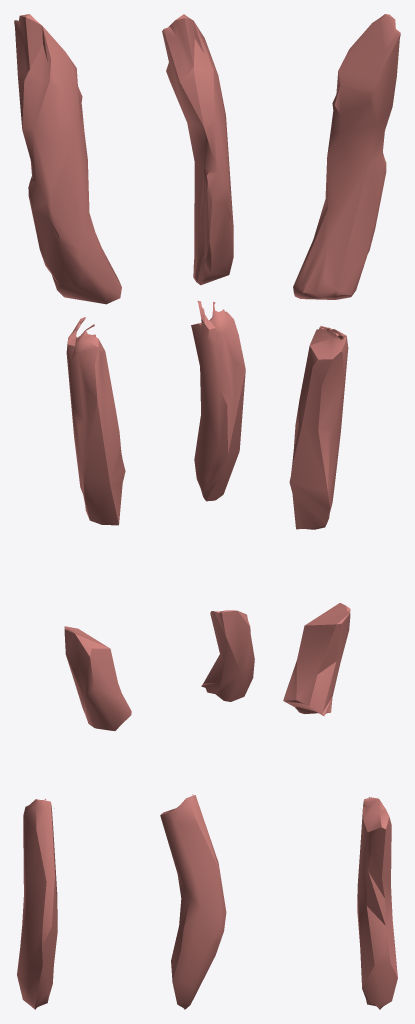
The model's file is fma71307_fj1550.glb.
3 views of the same model, side by side, from view 1: azimuth 90°, elevation 25°; view 2: azimuth 150°, elevation 25°; view 3: azimuth 270°, elevation 25° (orthographic).
Visible parts, largest first — view 1: FMA71307_FJ1550; view 2: FMA71307_FJ1550; view 3: FMA71307_FJ1550.
Boxes of the visible parts, left/top/right/bottom form: FMA71307_FJ1550: left=14, top=14, right=131, bottom=1009; FMA71307_FJ1550: left=160, top=14, right=254, bottom=1009; FMA71307_FJ1550: left=283, top=14, right=400, bottom=1009.
Bounding box in the file's own units: 0.00572 × 0.0914 × 0.00978.
